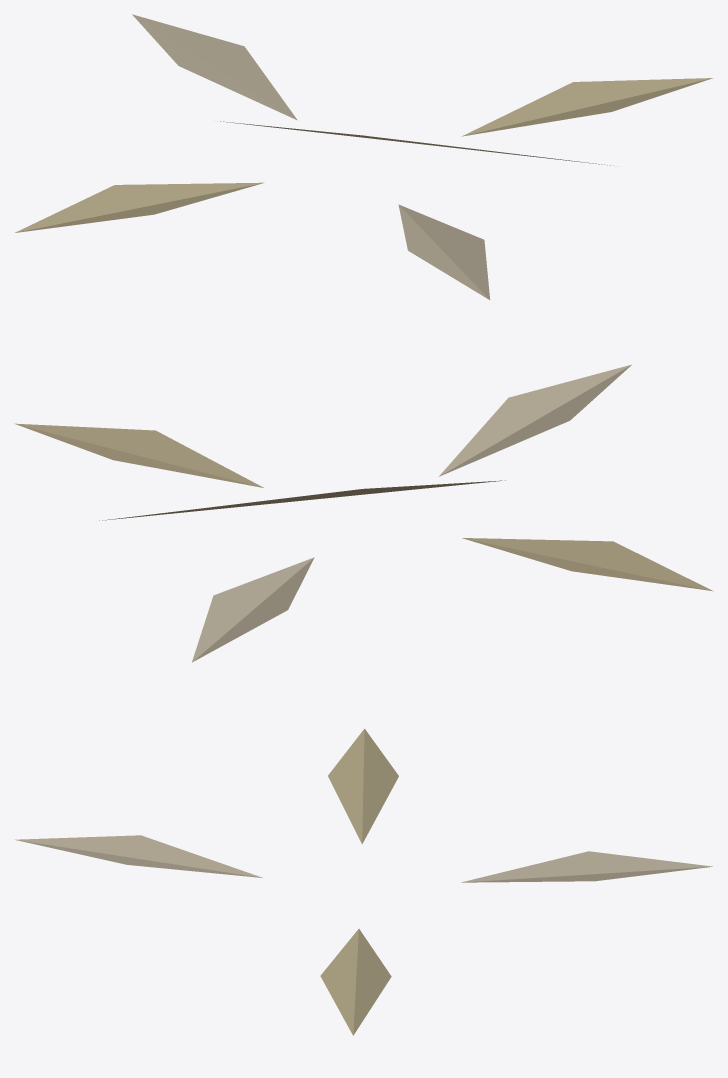
The model's file is cao.shamo@withered__summer.glb.
The picture shows the model from 3 angles, top to bottom: view 1: azimuth 30°, elevation 25°; view 2: azimuth 150°, elevation 25°; view 3: azimuth 270°, elevation 25°; orthographic projection. The views are drawn at different scales.
Parts seen in each view (by area): view 1: cao.shamo@withered__summer; view 2: cao.shamo@withered__summer; view 3: cao.shamo@withered__summer.
Part boxes in pixels (x1=…): cao.shamo@withered__summer: x1=15, y1=14, x2=712, y2=299; cao.shamo@withered__summer: x1=14, y1=364, x2=713, y2=662; cao.shamo@withered__summer: x1=15, y1=728, x2=712, y2=1035.
Bounding box in the file's own units: 0.6354 × 0.084 × 0.6279.
